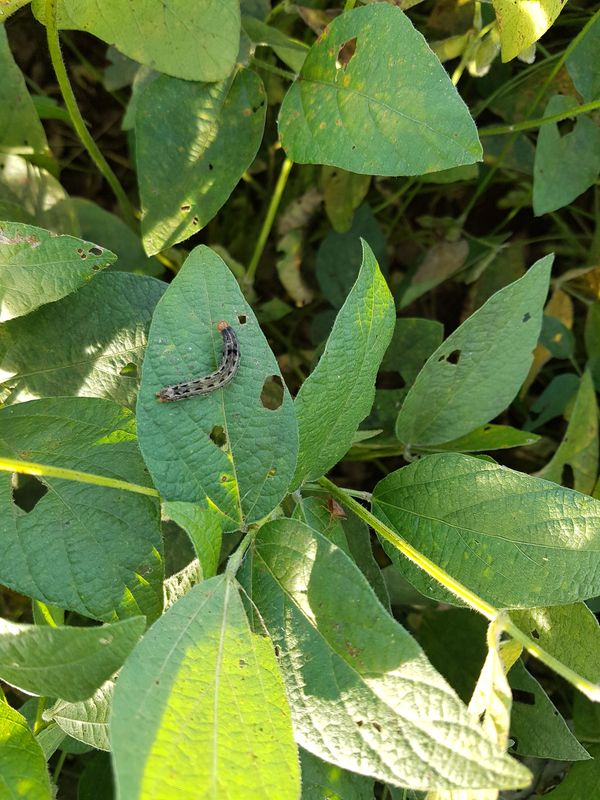Euschistus_heros_adulto: (312, 490, 357, 534)
Spodoptera_albula: (150, 313, 254, 409)
